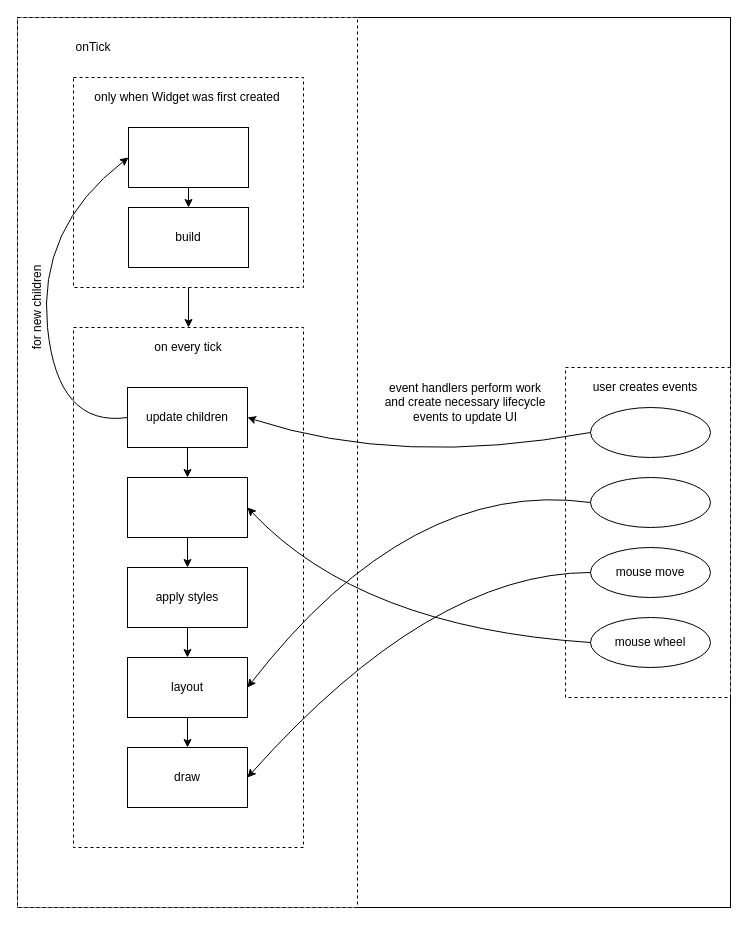
This 748x925 diagram has some shape labels left out. Each missing label, with the centre of its shape:
"key down" goes at pixel 650 502.
"match styles" goes at pixel 187 507.
"mount" goes at pixel 188 157.
"mouse click" goes at pixel 650 432.
